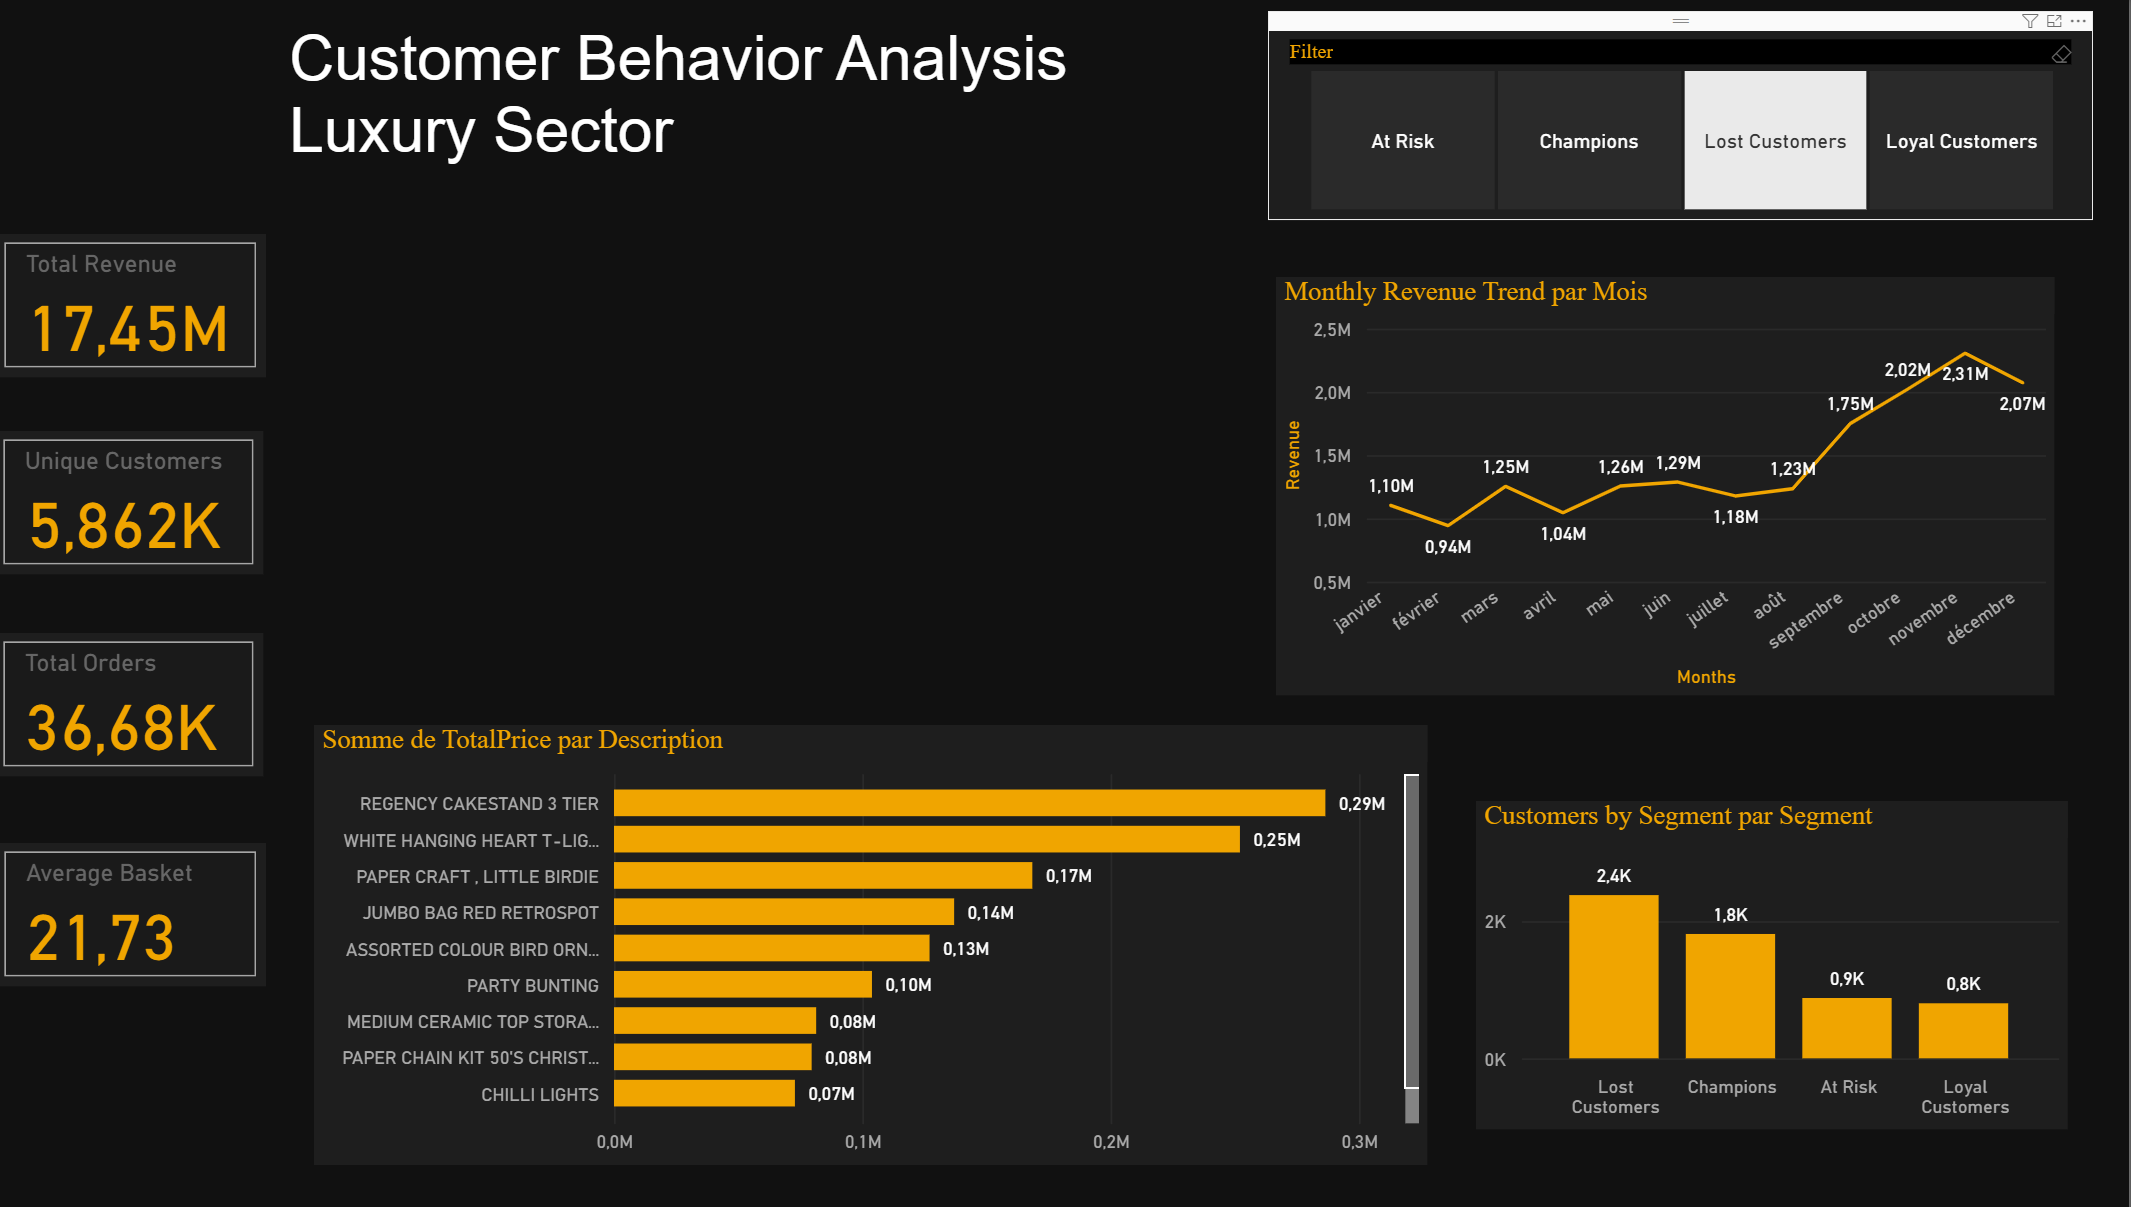

The page's visual inventory and layout, read from the dashboard file:
{"tool":"powerbi","page":{"name":"Dashboard test","canvas":[1280,720],"ordinal":0},"visuals":[{"type":"cardVisual","fields":{"Data":["Sum(ca_mensuel.CA)"]},"box":[0.7,131.2,161.7,85.6],"z":0},{"type":"textbox","box":[171.6,0,482.4,99.6],"z":1000},{"type":"slicer","fields":{"Values":["rfm_segments.Segment"]},"box":[763.5,9.4,495.2,113.8],"z":2000},{"type":"cardVisual","fields":{"Data":["Count(transactions_clean.Customer ID)"]},"box":[0,249.4,161,85.6],"z":3000},{"type":"cardVisual","fields":{"Data":["Count(transactions_clean.Invoice)"]},"box":[0,370.5,161,85.6],"z":4000},{"type":"cardVisual","fields":{"Data":["Avg(transactions_clean.TotalPrice)"]},"box":[0.7,496.7,161.7,85.6],"z":5000},{"type":"lineChart","fields":{"Y":["Sum(transactions_clean.TotalPrice)"],"Category":["transactions_clean.InvoiceDate.Variation.Hiérarchie de dates.Mois"]},"box":[768.6,157.2,466.8,250.8],"z":6000},{"type":"clusteredBarChart","fields":{"Y":["Sum(transactions_clean.TotalPrice)"],"Category":["transactions_clean.Description"]},"box":[191.4,426,667.8,264],"z":7000},{"type":"columnChart","fields":{"Category":["rfm_segments.Segment"],"Y":["CountNonNull(rfm_segments.Customer ID)"]},"box":[888.6,471.6,354.6,197.4],"z":8000}]}

Visuals, with their boxes in screenshot pixels (x1, y1, x2, y2), scaled from the page's 1280x720 canvas onto the 2131x1207 screenshot:
cardVisual - Sum(ca_mensuel.CA): [x1=1, y1=220, x2=270, y2=363]
textbox: [x1=286, y1=0, x2=1089, y2=167]
slicer - rfm_segments.Segment: [x1=1271, y1=16, x2=2096, y2=207]
cardVisual - Count(transactions_clean.Customer ID): [x1=0, y1=418, x2=268, y2=562]
cardVisual - Count(transactions_clean.Invoice): [x1=0, y1=621, x2=268, y2=765]
cardVisual - Avg(transactions_clean.TotalPrice): [x1=1, y1=833, x2=270, y2=976]
lineChart - Sum(transactions_clean.TotalPrice) x transactions_clean.InvoiceDate.Variation.Hiérarchie de dates.Mois: [x1=1280, y1=264, x2=2057, y2=684]
clusteredBarChart - Sum(transactions_clean.TotalPrice) x transactions_clean.Description: [x1=319, y1=714, x2=1430, y2=1157]
columnChart - rfm_segments.Segment x CountNonNull(rfm_segments.Customer ID): [x1=1479, y1=791, x2=2070, y2=1122]
